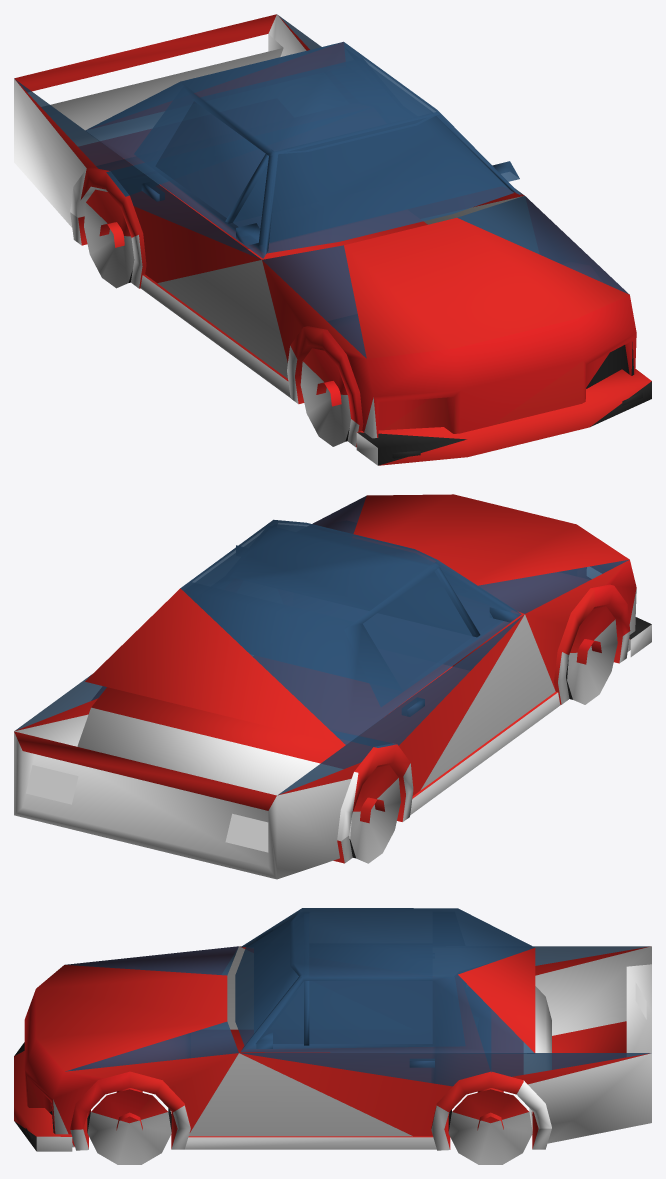
File: bot_car.obj
3 renders of one model, top to bottom at view 1: azimuth 30°, elevation 25°; view 2: azimuth 150°, elevation 25°; view 3: azimuth 270°, elevation 25°, orthographic. The views are drawn at different scales.
Size of the model in its own units: 2.03 by 1.44 by 4.92.
